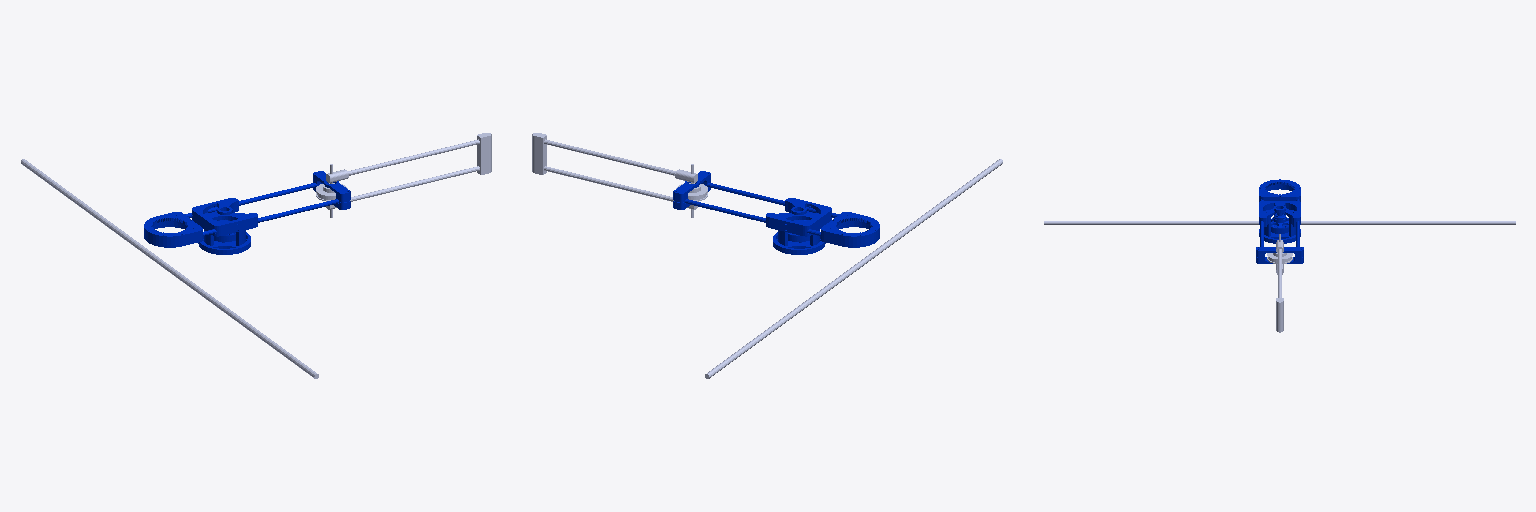
URDF robot description (Jumpy):
<?xml version="1.0" encoding="utf-8"?>
<!-- This URDF was automatically created by SolidWorks to URDF Exporter! Originally created by Stephen Brawner ([email redacted]) 
     Commit Version: 1.6.0-4-g7f85cfe  Build Version: 1.6.7995.38578
     For more information, please see http://wiki.ros.org/sw_urdf_exporter -->
<robot
  name="Jumpy">
  <link
    name="GuidePole">
    <inertial>
      <origin
        xyz="1.7347E-18 0.5 0"
        rpy="0 0 0" />
      <mass
        value="0.07854" />
      <inertia
        ixx="0.0065455"
        ixy="3.5293E-21"
        ixz="-1.034E-23"
        iyy="9.8175E-07"
        iyz="-8.8233E-22"
        izz="0.0065455" />
    </inertial>
    <visual>
      <origin
        xyz="0 0 0"
        rpy="0 0 0" />
      <geometry>
        <mesh
          filename="../meshes/GuidePole.STL" />
      </geometry>
      <material
        name="">
        <color
          rgba="0.79216 0.81961 0.93333 1" />
      </material>
    </visual>
    <collision>
      <origin
        xyz="0 0 0"
        rpy="0 0 0" />
      <geometry>
        <mesh
          filename="../meshes/GuidePole.STL" />
      </geometry>
    </collision>
  </link>
  <link
    name="Hip">
    <inertial>
      <origin
        xyz="2.5386E-08 7.9774E-09 0.036439"
        rpy="0 0 0" />
      <mass
        value="0.19494" />
      <inertia
        ixx="9.7189E-05"
        ixy="-1.2257E-10"
        ixz="4.0533E-12"
        iyy="9.4081E-05"
        iyz="2.9941E-12"
        izz="0.00017187" />
    </inertial>
    <visual>
      <origin
        xyz="0 0 0"
        rpy="0 0 0" />
      <geometry>
        <mesh
          filename="../meshes/Hip.STL" />
      </geometry>
      <material
        name="">
        <color
          rgba="0.28627 0.66275 0.32941 1" />
      </material>
    </visual>
    <collision>
      <origin
        xyz="0 0 0"
        rpy="0 0 0" />
      <geometry>
        <mesh
          filename="../meshes/Hip.STL" />
      </geometry>
    </collision>
  </link>
  <joint
    name="Prismatic1"
    type="prismatic">
    <origin
      xyz="0 0.5 0"
      rpy="0 0 0" />
    <parent
      link="GuidePole" />
    <child
      link="Hip" />
    <axis
      xyz="0 -1 0" />
    <limit
      lower="-0.5"
      upper="0.5"
      effort="0"
      velocity="0" />
  </joint>
  <link
    name="Thigh">
    <inertial>
      <origin
        xyz="5.1837E-07 -0.11253 -0.021305"
        rpy="0 0 0" />
      <mass
        value="0.24897" />
      <inertia
        ixx="0.00019947"
        ixy="1.9838E-08"
        ixz="1.1756E-10"
        iyy="0.0001936"
        iyz="-2.9018E-06"
        izz="0.00036259" />
    </inertial>
    <visual>
      <origin
        xyz="0 0 0"
        rpy="0 0 0" />
      <geometry>../meshes/
        <mesh
          filename="../meshes/Thigh.STL" />
      </geometry>
      <material
        name="">
        <color
          rgba="0.0078431 0.23922 0.82353 1" />
      </material>
    </visual>
    <collision>
      <origin
        xyz="0 0 0"
        rpy="0 0 0" />
      <geometry>
        <mesh
          filename="../meshes/Thigh.STL" />
      </geometry>
    </collision>
  </link>
  <joint
    name="Rotation1"
    type="continuous">
    <origin
      xyz="0 0 0.081567"
      rpy="0 0 1.5708" />
    <parent
      link="Hip" />
    <child
      link="Thigh" />
    <axis
      xyz="0 0 -1" />
    <limit
      effort="1"
      velocity="0" />
  </joint>
  <link
    name="Shin">
    <inertial>
      <origin
        xyz="0.11082 2.2923E-05 -0.009413"
        rpy="0 0 0" />
      <mass
        value="0.068723" />
      <inertia
        ixx="1.5542E-05"
        ixy="-6.4688E-11"
        ixz="8.5674E-09"
        iyy="6.9995E-05"
        iyz="-1.1864E-08"
        izz="6.422E-05" />
    </inertial>
    <visual>
      <origin
        xyz="0 0 0"
        rpy="0 0 0" />
      <geometry>
        <mesh
          filename="../meshes/Shin.STL" />
      </geometry>
      <material
        name="">
        <color
          rgba="0.79216 0.81961 0.93333 1" />
      </material>
    </visual>
    <collision>
      <origin
        xyz="0 0 0"
        rpy="0 0 0" />
      <geometry>
        <mesh
          filename="../meshes/Shin.STL" />
      </geometry>
    </collision>
  </link>
  <joint
    name="Rotation2"
    type="continuous">
    <origin
      xyz="0 -0.318 0"
      rpy="0 0 -1.5708" />
    <parent
      link="Thigh" />
    <child
      link="Shin" />
    <axis
      xyz="0 0 1" />
    <limit
      effort="1"
      velocity="0" />
  </joint>
</robot>

--- Render facts (derived) ---
3 views of the same robot in one strip: view 1: azimuth 30°, elevation 25°; view 2: azimuth 150°, elevation 25°; view 3: azimuth 270°, elevation 25° (orthographic).
Robot: Jumpy — 4 links, 3 joints (2 continuous, 1 prismatic); root link GuidePole; default pose: all joints at 0.
Links seen in each view (by area): view 1: Thigh, Shin, GuidePole; view 2: Thigh, Shin, GuidePole; view 3: Thigh, GuidePole, Shin.
Link boxes in pixels (bbox=[...]): Thigh: bbox=[144, 171, 350, 254]; Shin: bbox=[316, 133, 491, 217]; GuidePole: bbox=[21, 159, 318, 378]; Thigh: bbox=[673, 171, 879, 254]; Shin: bbox=[532, 133, 707, 217]; GuidePole: bbox=[705, 159, 1002, 378]; Thigh: bbox=[1256, 179, 1303, 263]; GuidePole: bbox=[1044, 221, 1515, 224]; Shin: bbox=[1267, 234, 1292, 332].
Bounding box of the posed robot: 0.6745 × 1 × 0.1274 m (x, y, z).
Meshes: 4 distinct files referenced, 3 mesh visuals loaded (3 binary STL); not drawn: 1 (reference not matched to a file when rendering).
